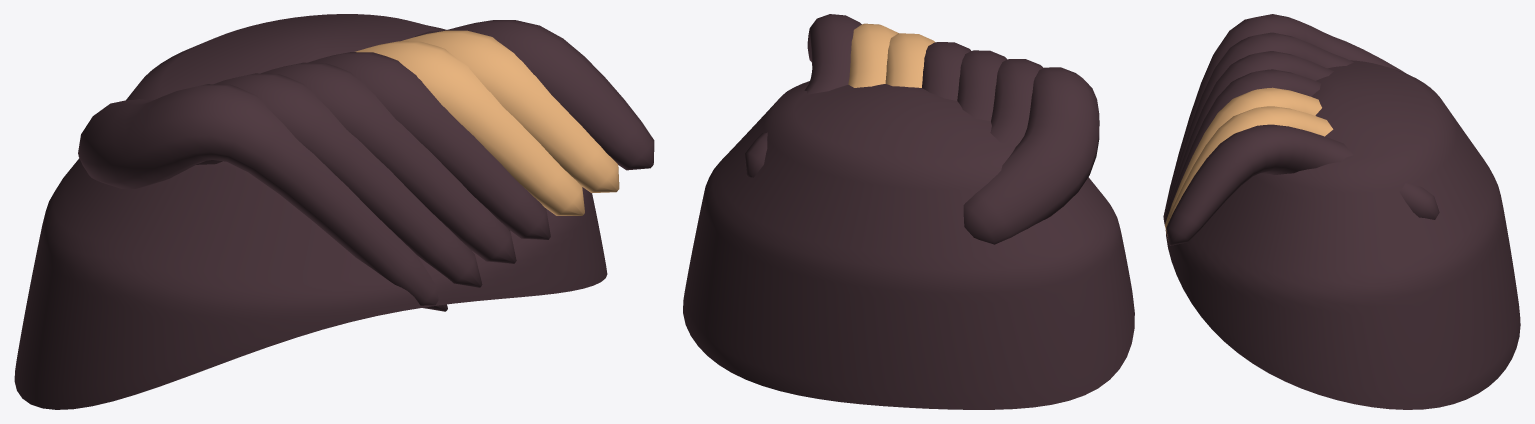
Rendered from studio_undercut_sweep_default.glb.
The picture shows the model from 3 angles, left to right: view 1: azimuth 30°, elevation 25°; view 2: azimuth 150°, elevation 25°; view 3: azimuth 270°, elevation 25°; orthographic projection. The views are drawn at different scales.
Visible parts, largest first — view 1: undercut_sweep; view 2: undercut_sweep; view 3: undercut_sweep.
Boxes of the visible parts, x1=… form: undercut_sweep: x1=14, y1=14, x2=654, y2=409; undercut_sweep: x1=683, y1=14, x2=1134, y2=409; undercut_sweep: x1=1163, y1=14, x2=1520, y2=409.
Bounding box in the file's own units: 0.476 × 0.2897 × 0.3604.
